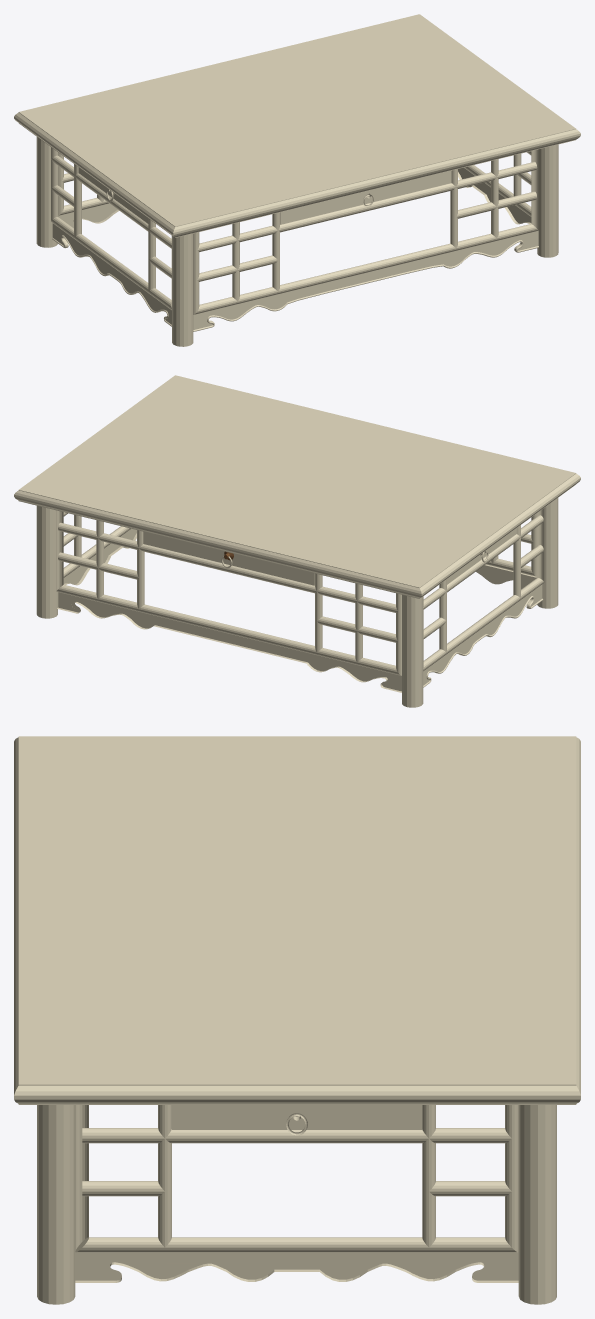
The model's file is Table.gltf.
3 views of the same model, one above another, from view 1: azimuth 30°, elevation 25°; view 2: azimuth 150°, elevation 25°; view 3: azimuth 270°, elevation 25° (orthographic). The views are drawn at different scales.
Parts seen in each view (by area): view 1: Rectangle4, Circle37, Line05, Circle430, Circle41, Rectangle2, Line06, Circle490, Circle500, Plane17, Line04, Circle400 (+13 smaller); view 2: Rectangle4, Circle37, Line03, Circle43, Circle44, Rectangle0, Line06, Circle490, Circle500, Line04, Circle45, Circle46 (+12 smaller); view 3: Rectangle4, Circle37, Line04, Circle51, Rectangle1, Circle52, Circle48, Circle50, Circle49, Circle54, Circle53, Circle55.
Boxes of the visible parts, x1,y1,x2,y2 form: Rectangle4: [14, 14, 580, 237]; Circle37: [36, 137, 558, 346]; Line05: [193, 231, 538, 329]; Circle430: [194, 224, 538, 314]; Circle41: [197, 161, 537, 252]; Rectangle2: [280, 170, 451, 224]; Line06: [52, 223, 171, 324]; Circle490: [51, 217, 171, 309]; Circle500: [51, 155, 171, 248]; Plane17: [193, 240, 538, 331]; Line04: [458, 167, 531, 224]; Circle400: [456, 191, 536, 218]; Rectangle4: [14, 375, 580, 598]; Circle37: [36, 498, 558, 707]; Line03: [56, 592, 401, 692]; Circle43: [56, 585, 400, 675]; Circle44: [58, 522, 397, 612]; Rectangle0: [143, 531, 314, 585]; Line06: [423, 584, 542, 685]; Circle490: [423, 578, 544, 670]; Circle500: [423, 515, 543, 609]; Line04: [63, 528, 136, 585]; Circle45: [58, 552, 138, 579]; Circle46: [317, 616, 397, 642]; Rectangle4: [14, 736, 580, 1104]; Circle37: [37, 1105, 556, 1304]; Line04: [75, 1252, 518, 1282]; Circle51: [75, 1237, 517, 1252]; Rectangle1: [172, 1105, 422, 1129]; Circle52: [82, 1128, 511, 1143]; Circle48: [505, 1105, 518, 1252]; Circle50: [158, 1105, 171, 1247]; Circle49: [422, 1105, 435, 1247]; Circle54: [75, 1105, 88, 1250]; Circle53: [82, 1181, 164, 1196]; Circle55: [429, 1181, 511, 1196].
Bounding box in the file's own units: 1356 × 406 × 917.
